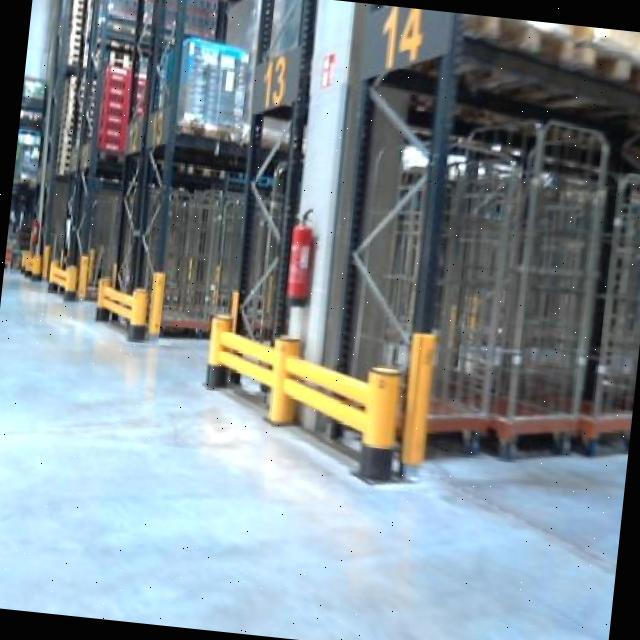pallet: (458, 13, 586, 66), (571, 31, 640, 83)
